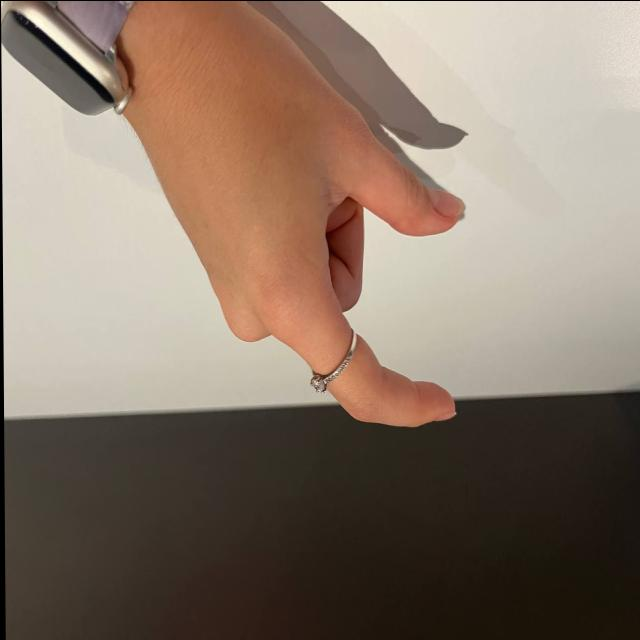uh: (140, 32, 491, 450)
